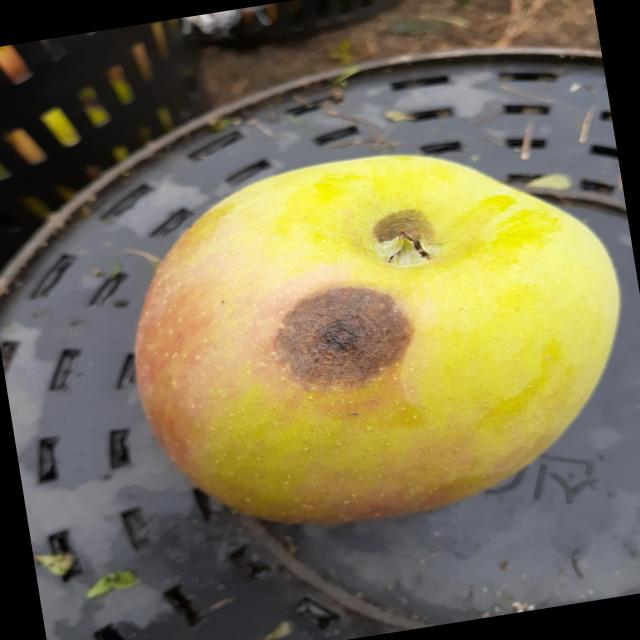rotten: (87, 104, 640, 574)
